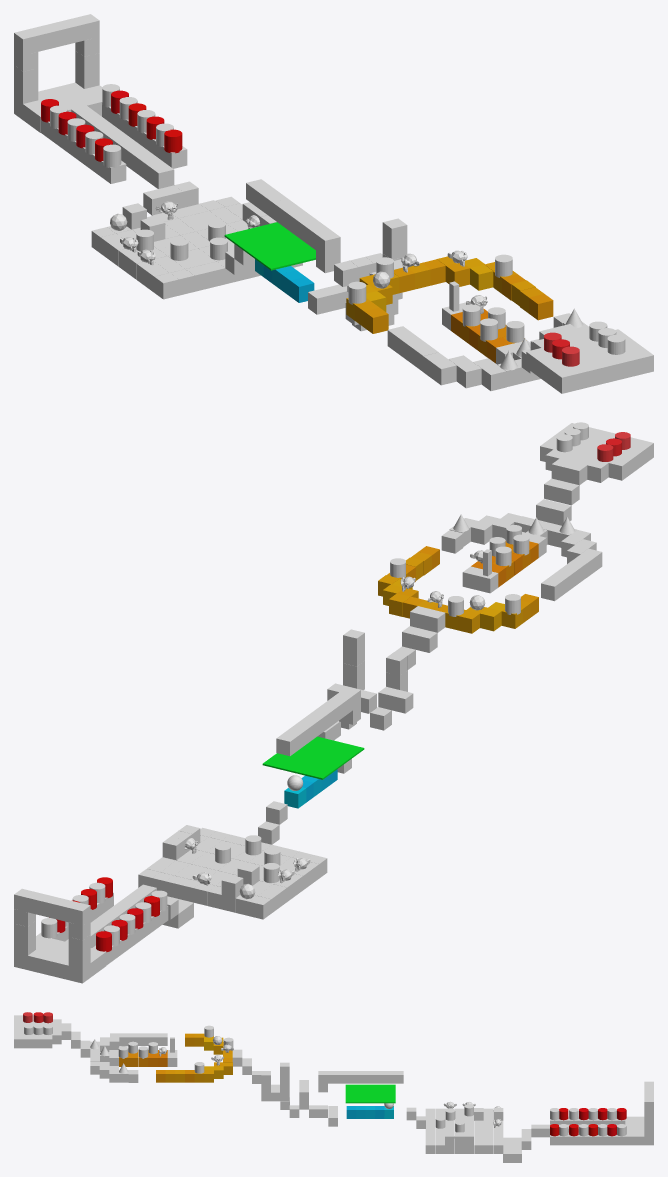
3 views of the same model, one above another, from view 1: azimuth 30°, elevation 25°; view 2: azimuth 150°, elevation 25°; view 3: azimuth 270°, elevation 25° (orthographic). The views are drawn at different scales.
Parts seen in each view (by area): view 1: Cube.118, Cube.100, Cube.239, Cube.157, Cube.287, Cube.048, Cube.004, Cube.102, Cube.105, Cube.050, Cube.106, Cube.109 (+1 smaller); view 2: Cube.118; view 3: Cube.118.
Part boxes in pixels (x1,y1,x2,y2): Cube.118: [224, 222, 315, 270]; Cube.100: [382, 218, 407, 244]; Cube.239: [149, 163, 174, 188]; Cube.157: [154, 273, 178, 299]; Cube.287: [14, 29, 38, 55]; Cube.048: [529, 294, 553, 320]; Cube.004: [553, 367, 577, 393]; Cube.102: [432, 359, 456, 385]; Cube.105: [457, 362, 481, 388]; Cube.050: [364, 307, 388, 333]; Cube.106: [482, 365, 506, 390]; Cube.109: [316, 230, 340, 256]; Cube.118: [262, 736, 364, 779]; Cube.118: [345, 1084, 395, 1103].
Bounding box in the file's own units: 2002 × 2790 × 13267.
